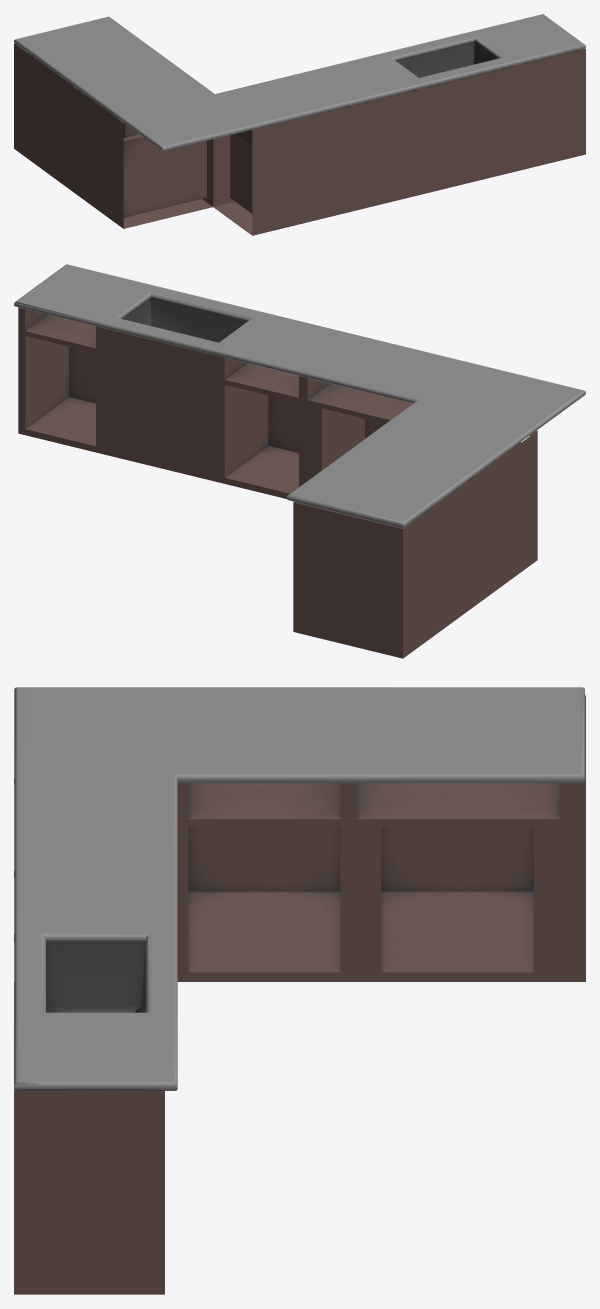
The model's file is KitchenSlab.fbx.
The picture shows the model from 3 angles, top to bottom: view 1: azimuth 30°, elevation 25°; view 2: azimuth 150°, elevation 25°; view 3: azimuth 270°, elevation 25°; orthographic projection. The views are drawn at different scales.
Parts seen in each view (by area): view 1: polySurface30; view 2: polySurface30; view 3: polySurface30.
Part boxes in pixels (box(x1,y1,x2,y2)): polySurface30: box(14, 14, 585, 235); polySurface30: box(14, 264, 585, 658); polySurface30: box(14, 687, 585, 1294).
Size of the model in its own units: 120 by 29.88 by 73.24.
1 material, 1 textured.
